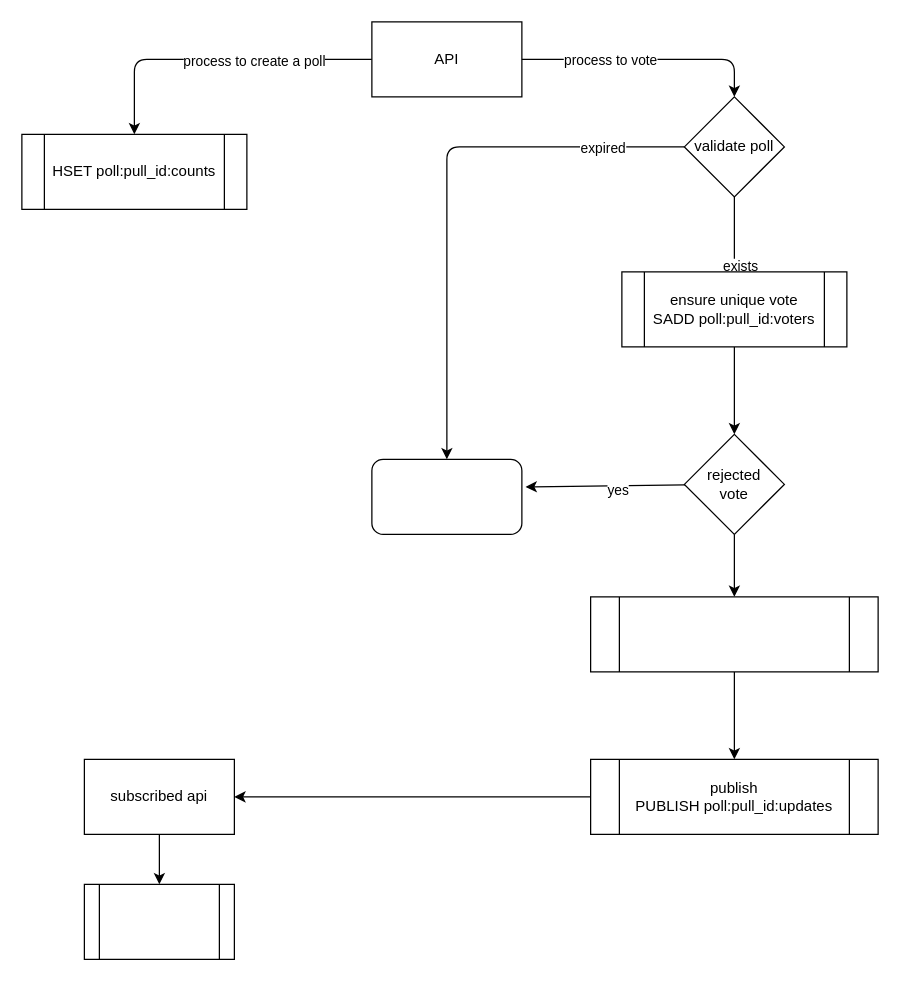
Image size: 900x981. Some labels were removed from this diagram. Here are the shapes that lost their labels. From the top down, the box of each, then its label:
(371, 458, 522, 534): end
(589, 596, 878, 672): count vote HINCRBY poll:pull_id:counts
(83, 883, 234, 959): publish on websocket
